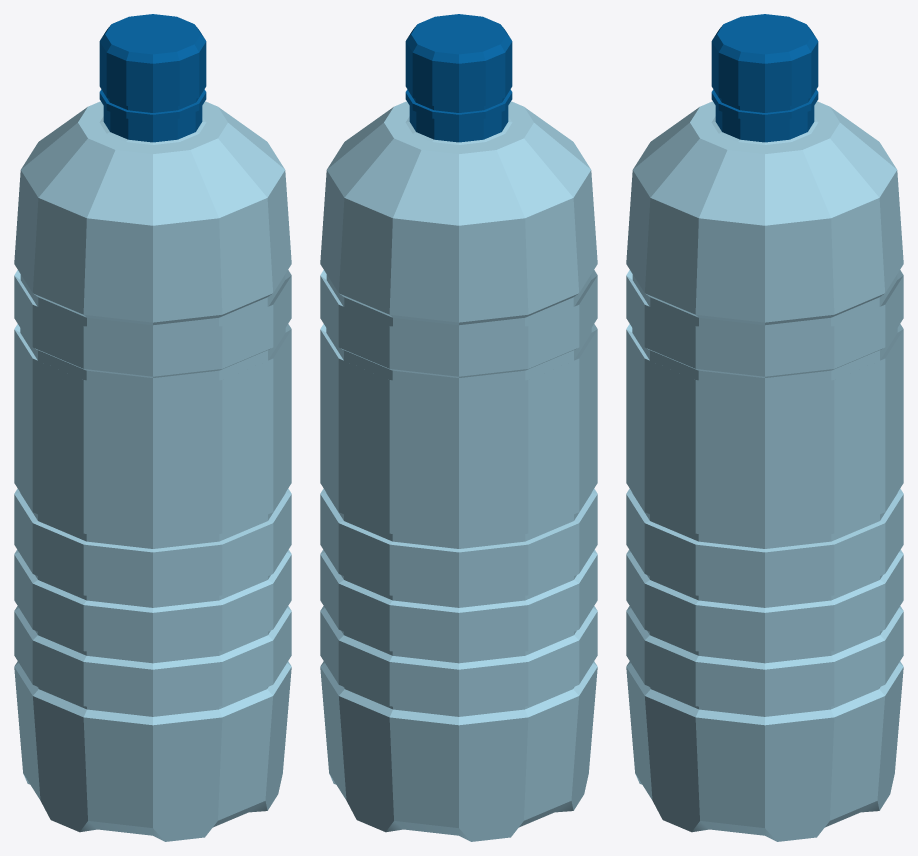
Rendered from Low Poly Water Bottle.fbx.
3 views of the same model, side by side, from view 1: azimuth 30°, elevation 25°; view 2: azimuth 150°, elevation 25°; view 3: azimuth 270°, elevation 25° (orthographic).
Visible parts, largest first — view 1: pCylinder1; view 2: pCylinder1; view 3: pCylinder1.
Boxes of the visible parts, x1,y1,x2,y2 form: pCylinder1: (14, 14, 291, 841); pCylinder1: (320, 14, 597, 841); pCylinder1: (626, 14, 903, 841).
Size of the model in its own units: 2 by 6 by 2.
